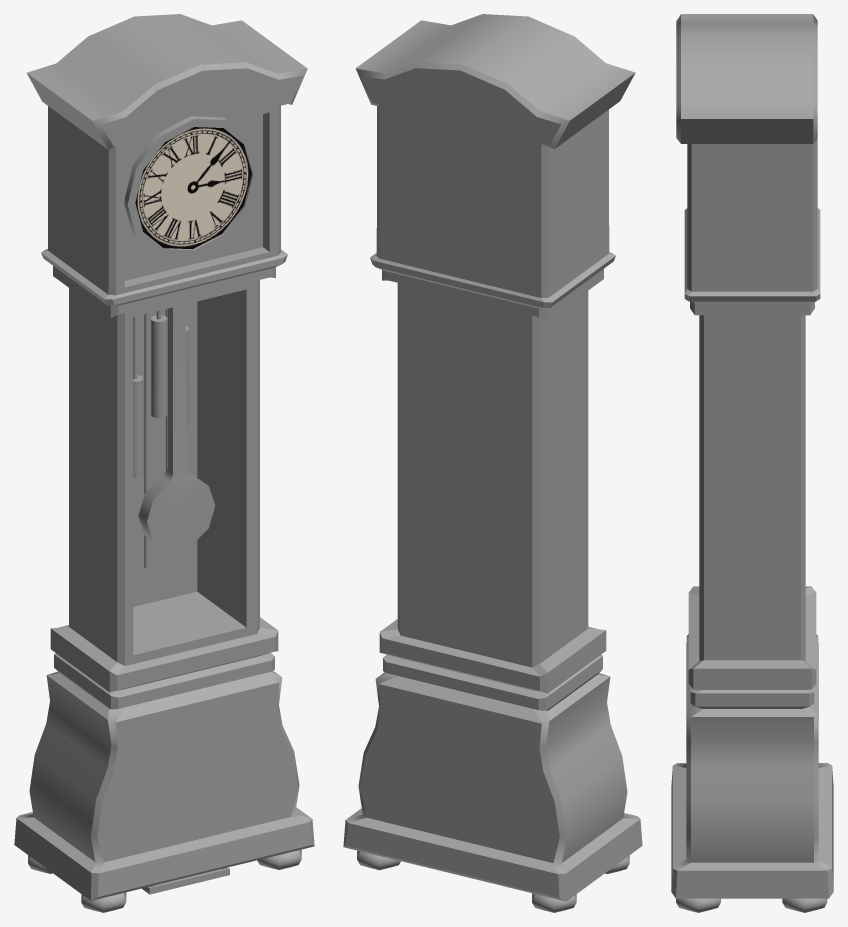
File: grandfatherClock.fbx
3 views of the same model, side by side, from view 1: azimuth 30°, elevation 25°; view 2: azimuth 150°, elevation 25°; view 3: azimuth 270°, elevation 25° (orthographic).
Visible parts, largest first — view 1: grandfatherClock_a_wood, grandfatherClock_a_tangents, grandfatherClock_a_disk, grandfatherClock_a_goldCircle, grandfatherClock_b_wood; view 2: grandfatherClock_a_wood; view 3: grandfatherClock_a_wood.
Boxes of the visible parts, x1,y1,x2,y2 form: grandfatherClock_a_wood: (14, 14, 314, 912); grandfatherClock_a_tangents: (133, 304, 215, 568); grandfatherClock_a_disk: (135, 127, 251, 249); grandfatherClock_a_goldCircle: (124, 116, 260, 258); grandfatherClock_b_wood: (142, 867, 229, 894); grandfatherClock_a_wood: (343, 14, 642, 912); grandfatherClock_a_wood: (671, 14, 833, 912).
Bounding box in the file's own units: 0.5589 × 1.98 × 0.351.
